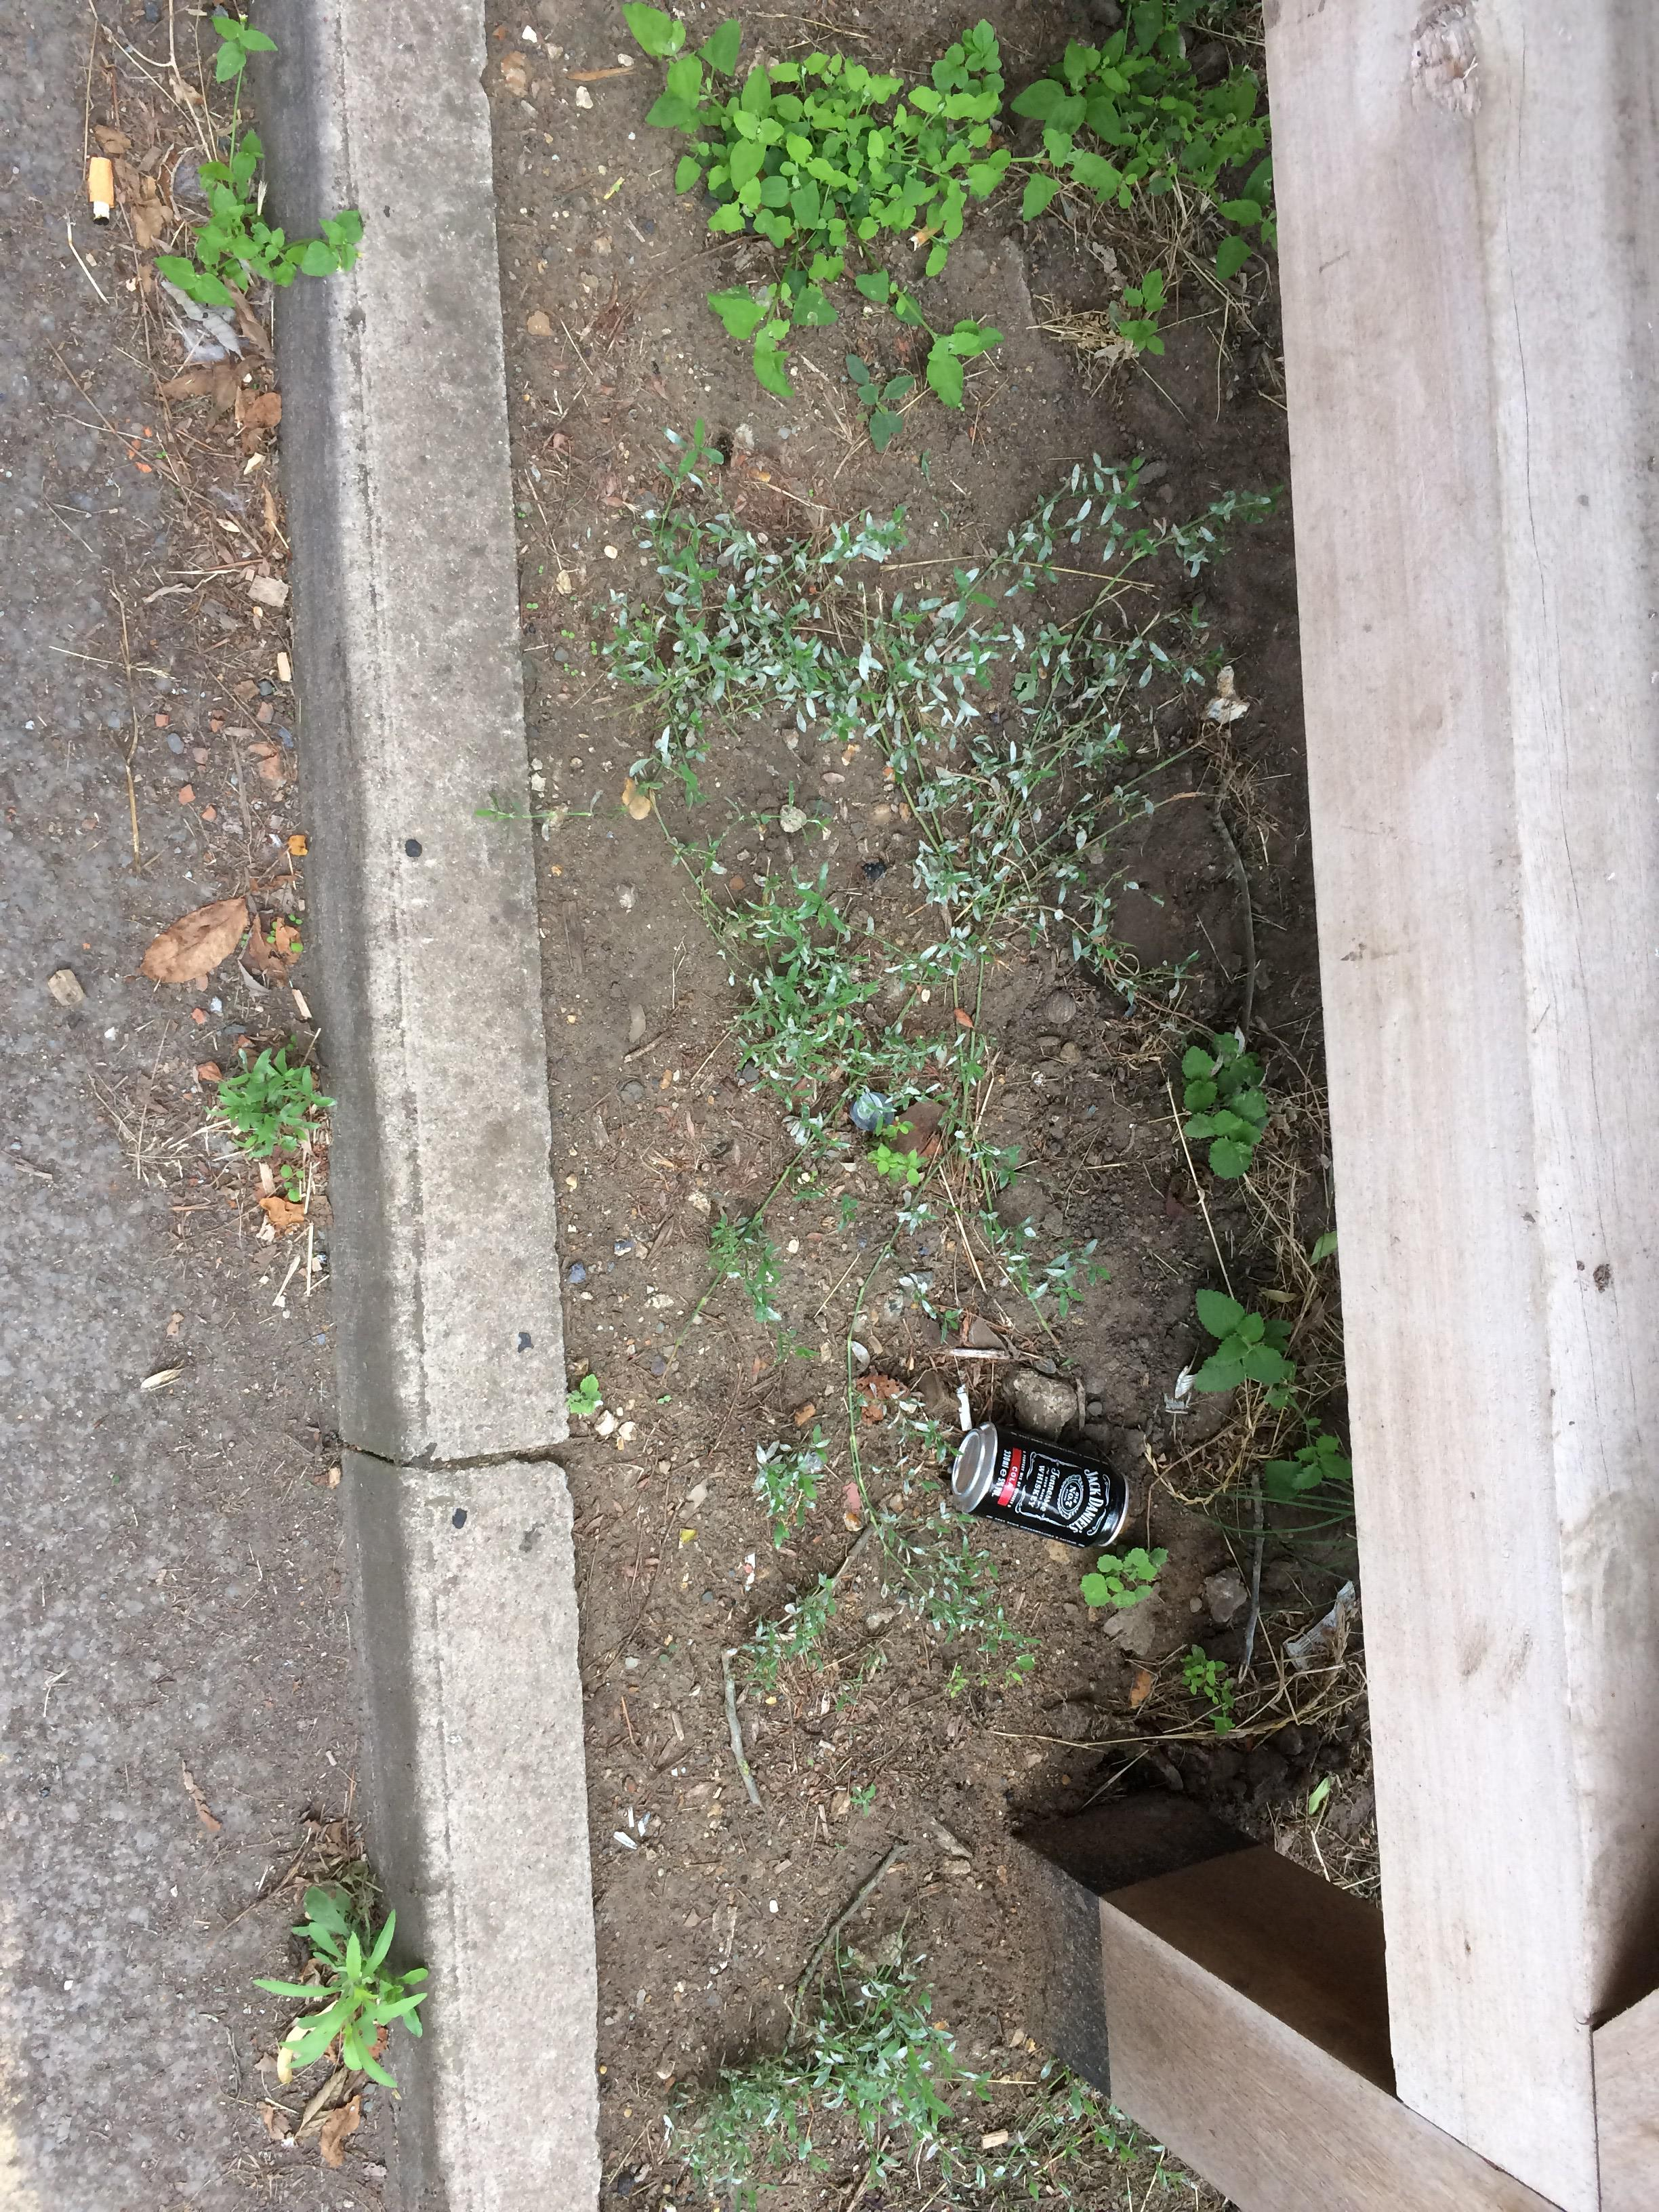Trash: (953, 1414, 1138, 1550)
